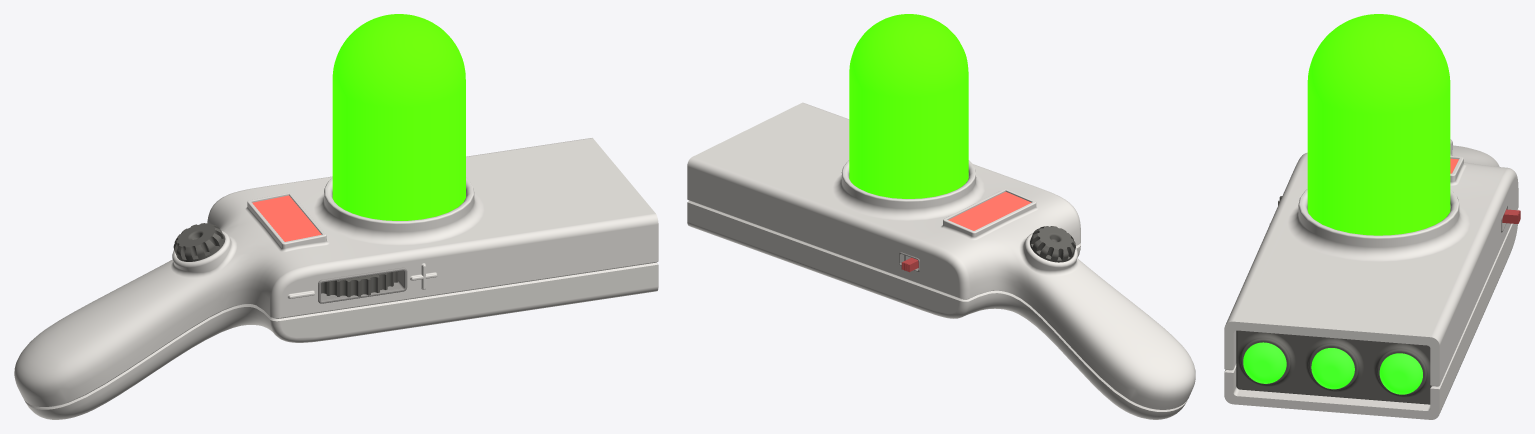
File: 0fKNrdZF8yD.glb
3 renders of one model, left to right at view 1: azimuth 30°, elevation 25°; view 2: azimuth 150°, elevation 25°; view 3: azimuth 270°, elevation 25°, orthographic. The views are drawn at different scales.
Visible parts, largest first — view 1: Body16, Body28, Body1, Body15, Body12, Body31, Body32; view 2: Body16, Body28, Body1, Body15, Body12; view 3: Body16, Body28, Body4, Body1, Body9, Body10, Body8.
Part boxes in pixels (bbox=[...]): Body16: bbox=[14, 138, 658, 407]; Body28: bbox=[332, 14, 465, 220]; Body1: bbox=[24, 262, 658, 419]; Body15: bbox=[252, 195, 321, 241]; Body12: bbox=[173, 223, 224, 261]; Body31: bbox=[321, 271, 398, 297]; Body32: bbox=[318, 267, 407, 303]; Body16: bbox=[687, 102, 1195, 409]; Body28: bbox=[849, 14, 968, 198]; Body1: bbox=[687, 201, 1187, 419]; Body15: bbox=[948, 191, 1031, 230]; Body12: bbox=[1030, 226, 1075, 262]; Body16: bbox=[1224, 139, 1518, 386]; Body28: bbox=[1307, 14, 1450, 235]; Body4: bbox=[1236, 330, 1431, 404]; Body1: bbox=[1224, 209, 1518, 419]; Body9: bbox=[1311, 348, 1354, 389]; Body10: bbox=[1379, 353, 1422, 394]; Body8: bbox=[1243, 342, 1286, 383].
Bounding box in the file's own units: 9.59 × 5.51 × 4.06.
